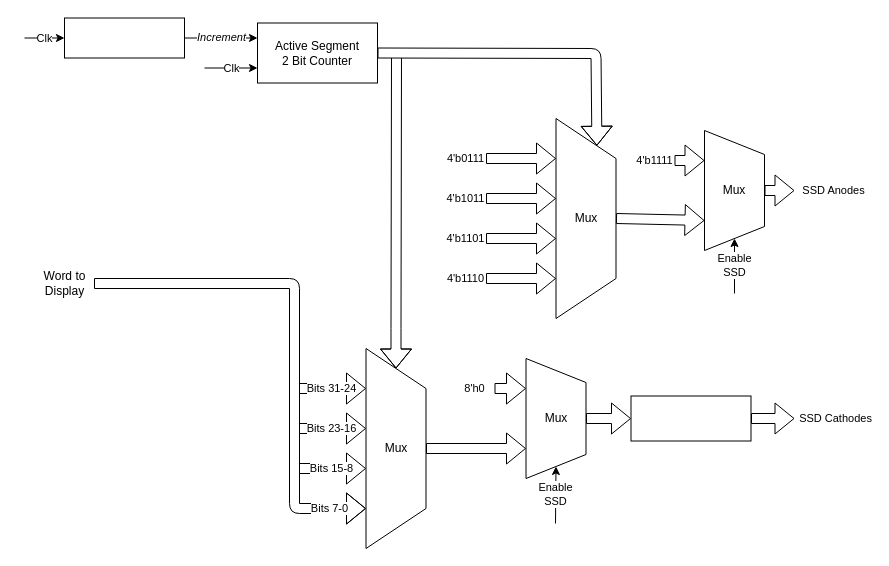
Some shapes in this 889 by 566 pixel diagram are drawn without their labels. Here are the shapes that lost their labels. From the top down, the centre of each, then its label:
At point 124,37: "1kHz Heartbeat Generator".
At point 690,418: "Character Decoder".
